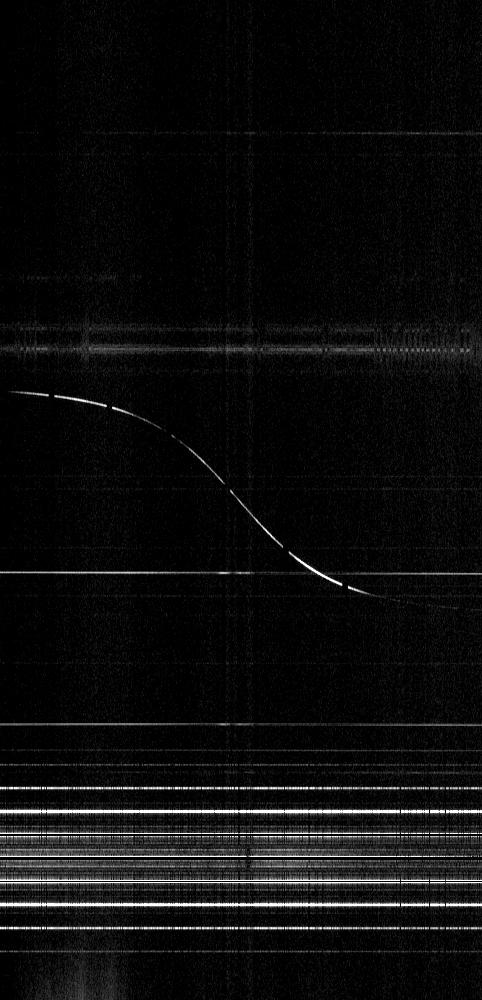signal: (0, 0, 481, 999)
